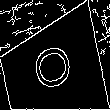O_W: (28, 42, 76, 97)
